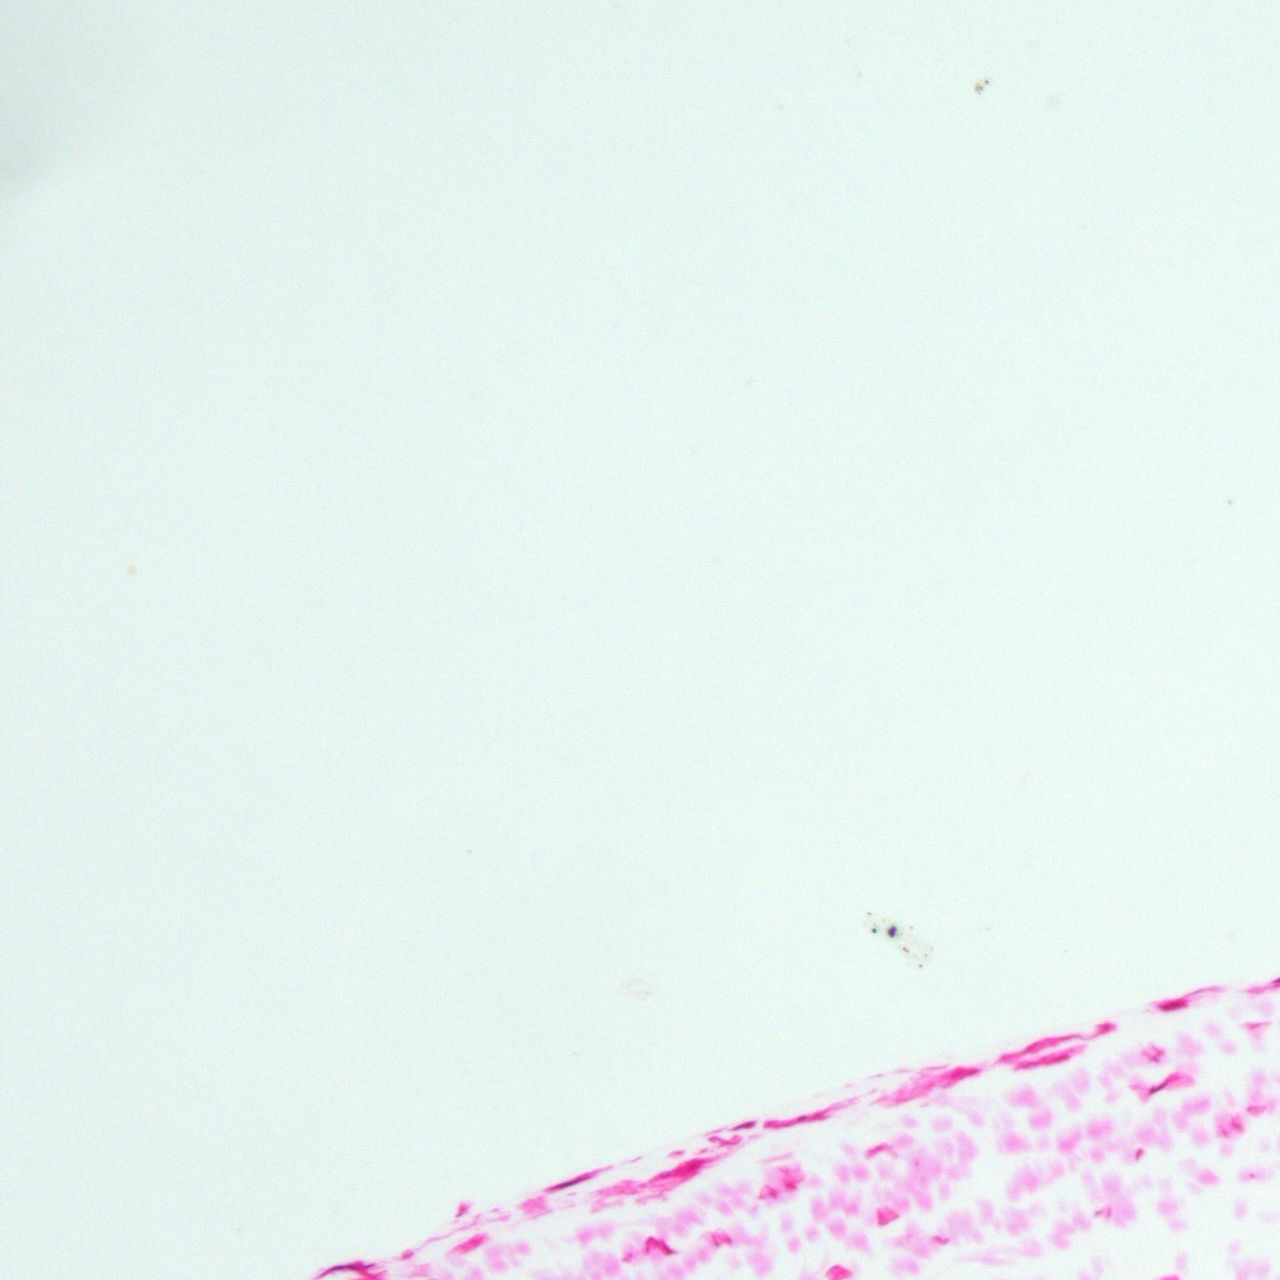dust: (887, 926, 897, 937), (974, 86, 983, 93), (983, 79, 990, 84), (871, 928, 877, 934), (917, 964, 922, 969), (1225, 499, 1231, 504), (866, 912, 873, 915), (908, 925, 913, 930), (922, 953, 928, 956), (903, 947, 907, 951)
nucleus-FG: (315, 1259, 374, 1278), (546, 1171, 593, 1193), (1149, 1074, 1175, 1094), (1160, 998, 1189, 1012), (733, 1119, 756, 1133), (644, 1235, 654, 1254), (660, 1240, 673, 1255), (874, 1144, 884, 1153), (796, 1115, 808, 1121), (764, 1121, 774, 1126)
